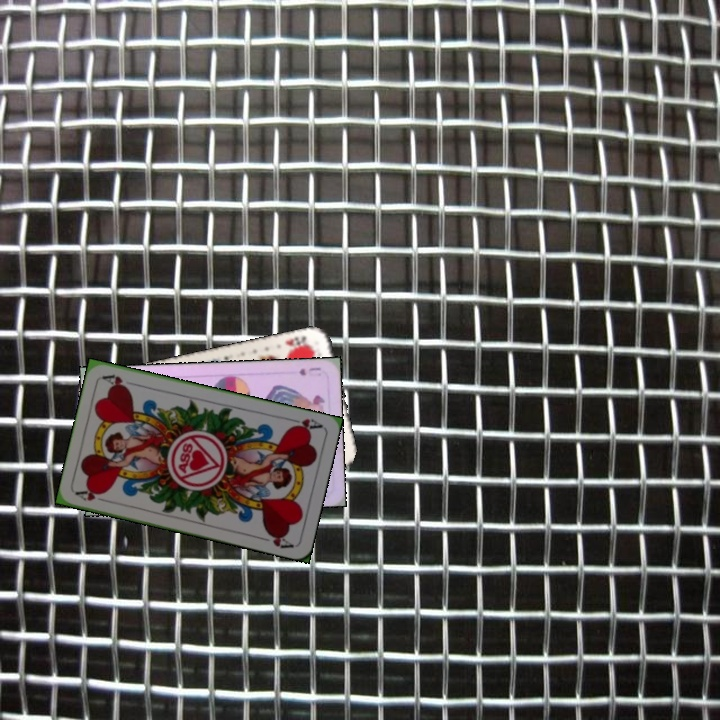HA: (284, 414, 324, 434), (72, 486, 113, 505)
HK: (281, 331, 315, 355)
SU: (295, 363, 323, 378)
